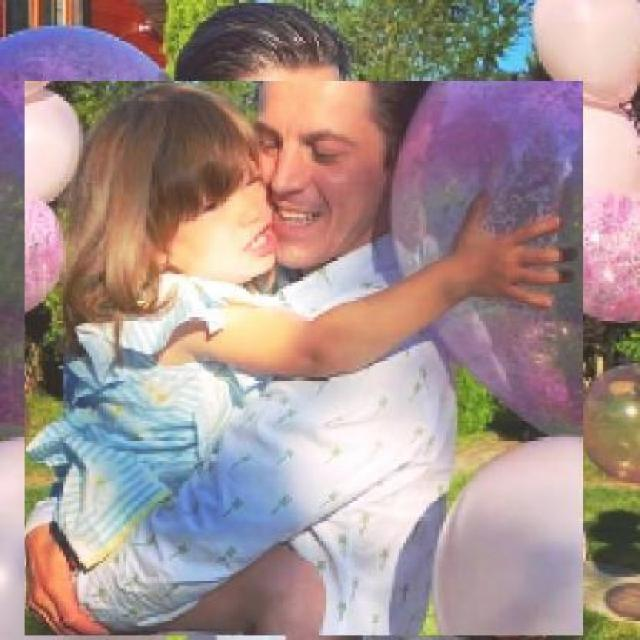child: (23, 80, 583, 637)
